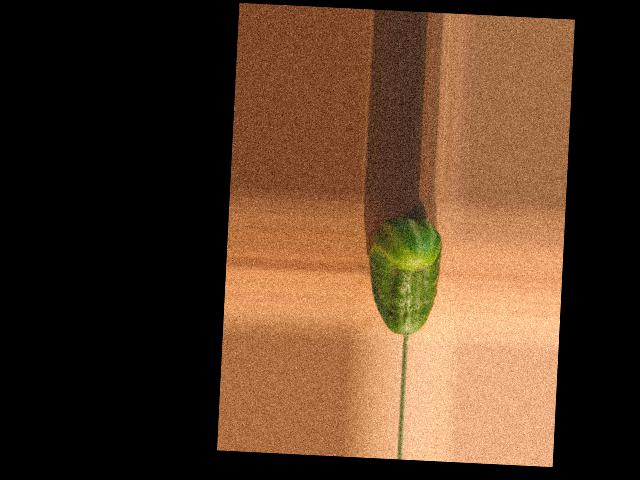cucumber: (366, 216, 444, 337)
